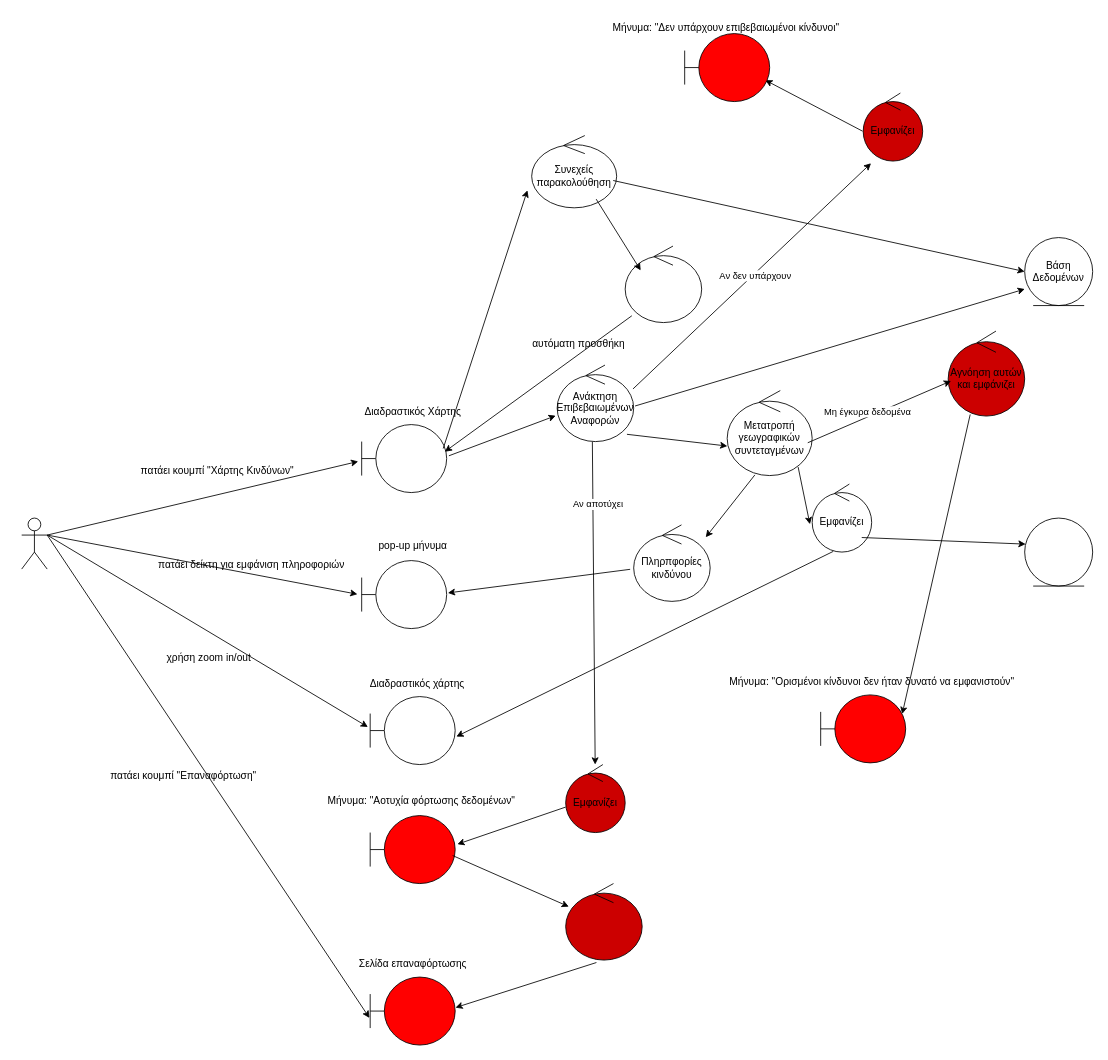
Image size: 1108x1060. Some labels were removed from this diagram. Each missing label, with the box of its shape:
Εντοπισμός νέας αναφοράς: (624, 245, 702, 323)
Επαναφόρτωση: (565, 883, 642, 960)
Σημείο Τοποθεσίας: (1024, 517, 1093, 586)
Χρήστης: (21, 517, 47, 569)
